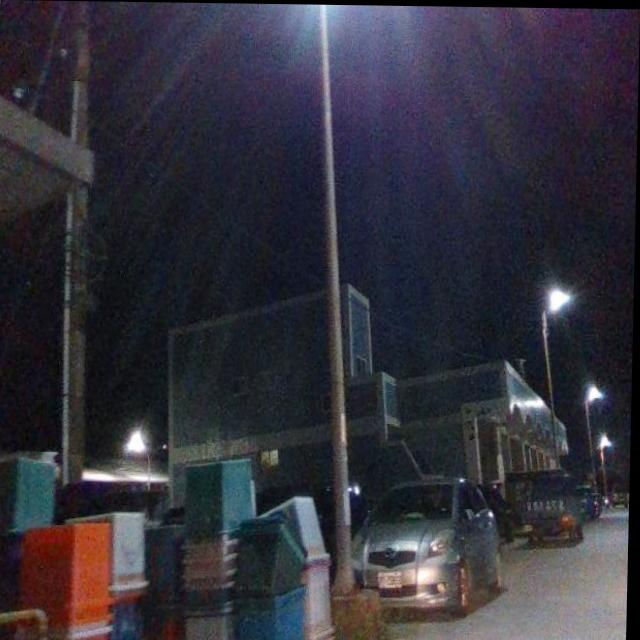pollute: (0, 451, 342, 640)
